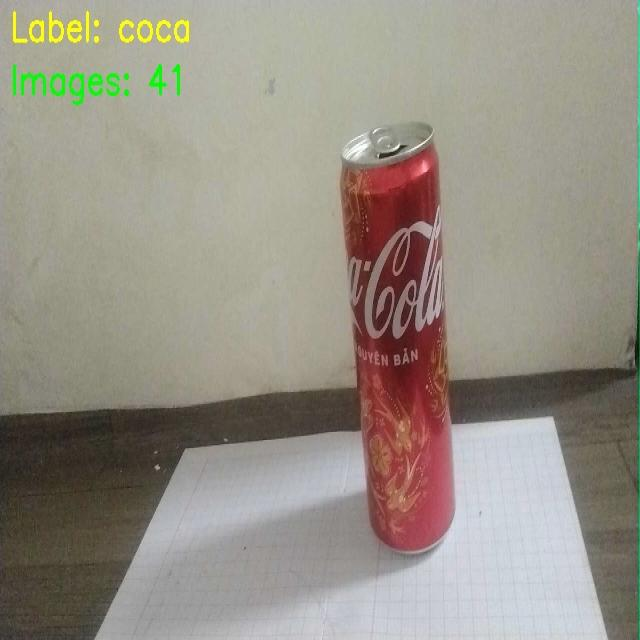Coca: (286, 103, 498, 568)
